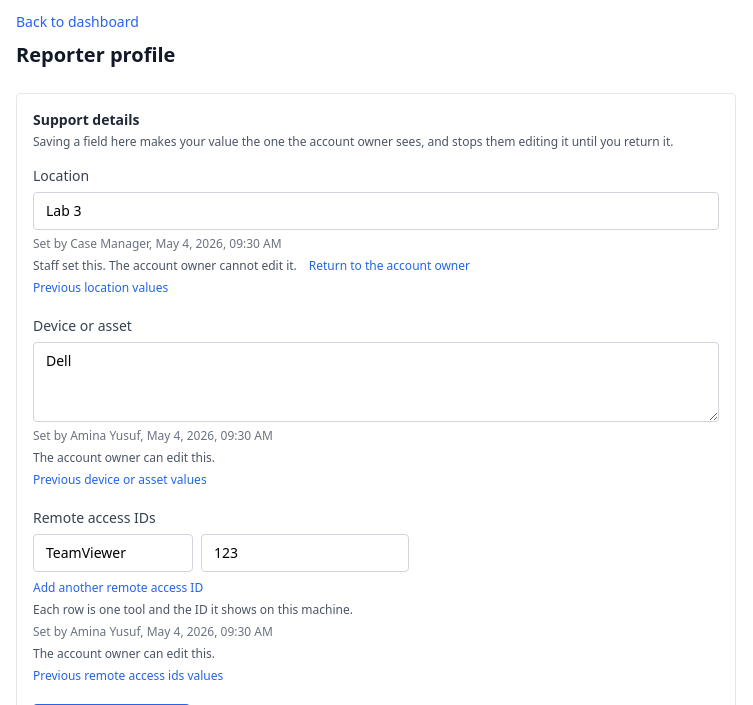
Test: UserProfilePage › UP-008: a release is applied only from the server's answer
Check: the field showing "Lab 3" is shown, box [33,192,719,230]
Click the button "Return to the account owner": click(389, 266) [309,258,470,274]
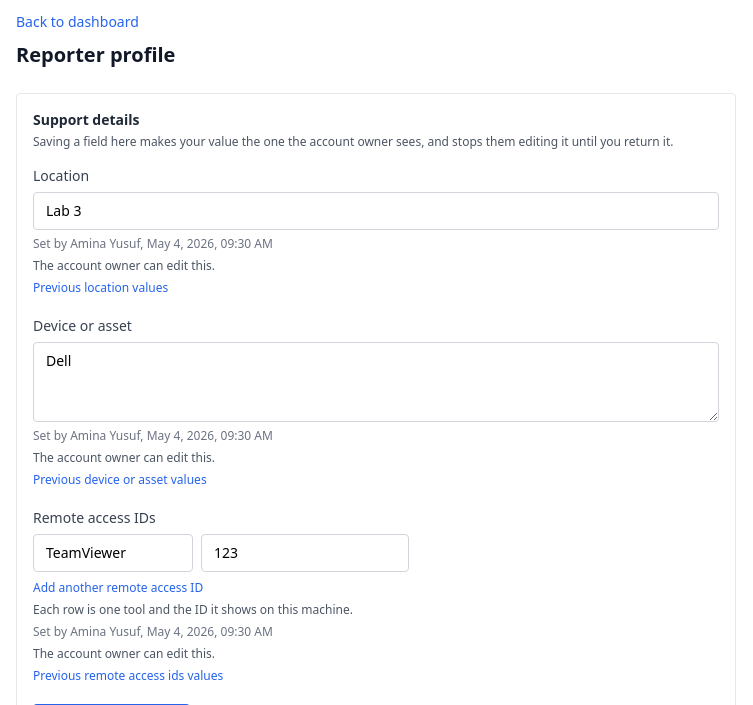
Check: the button "Return to the account owner" is gone
